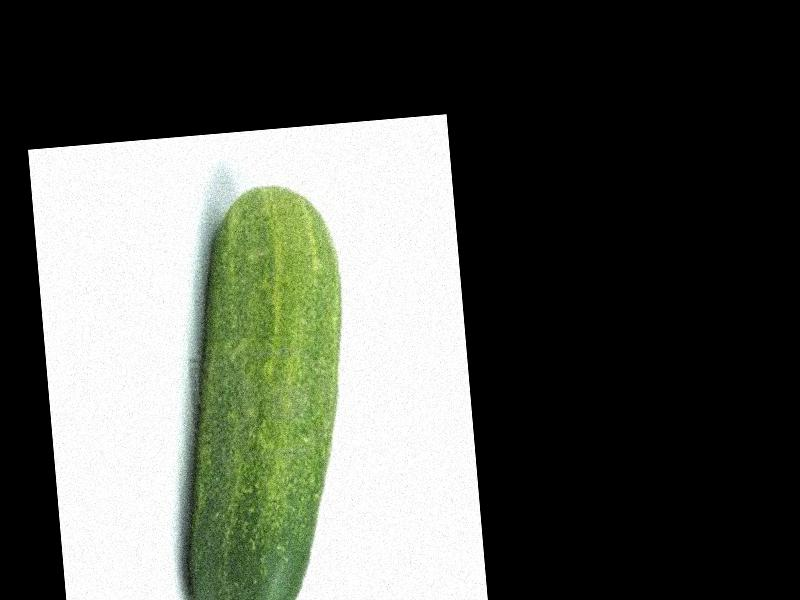Cucumber: (156, 181, 368, 600)
